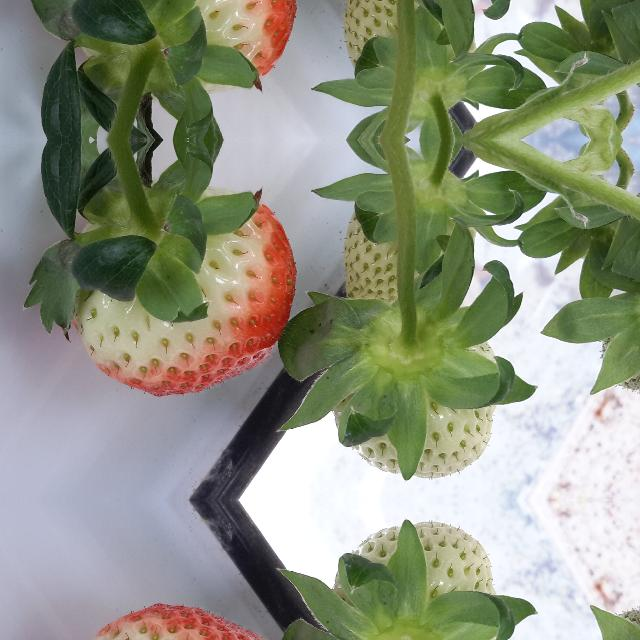Health_25: (326, 323, 504, 475), (325, 525, 504, 640), (344, 171, 436, 317), (344, 0, 435, 109)
Health_75: (76, 186, 296, 397), (75, 0, 296, 94)
